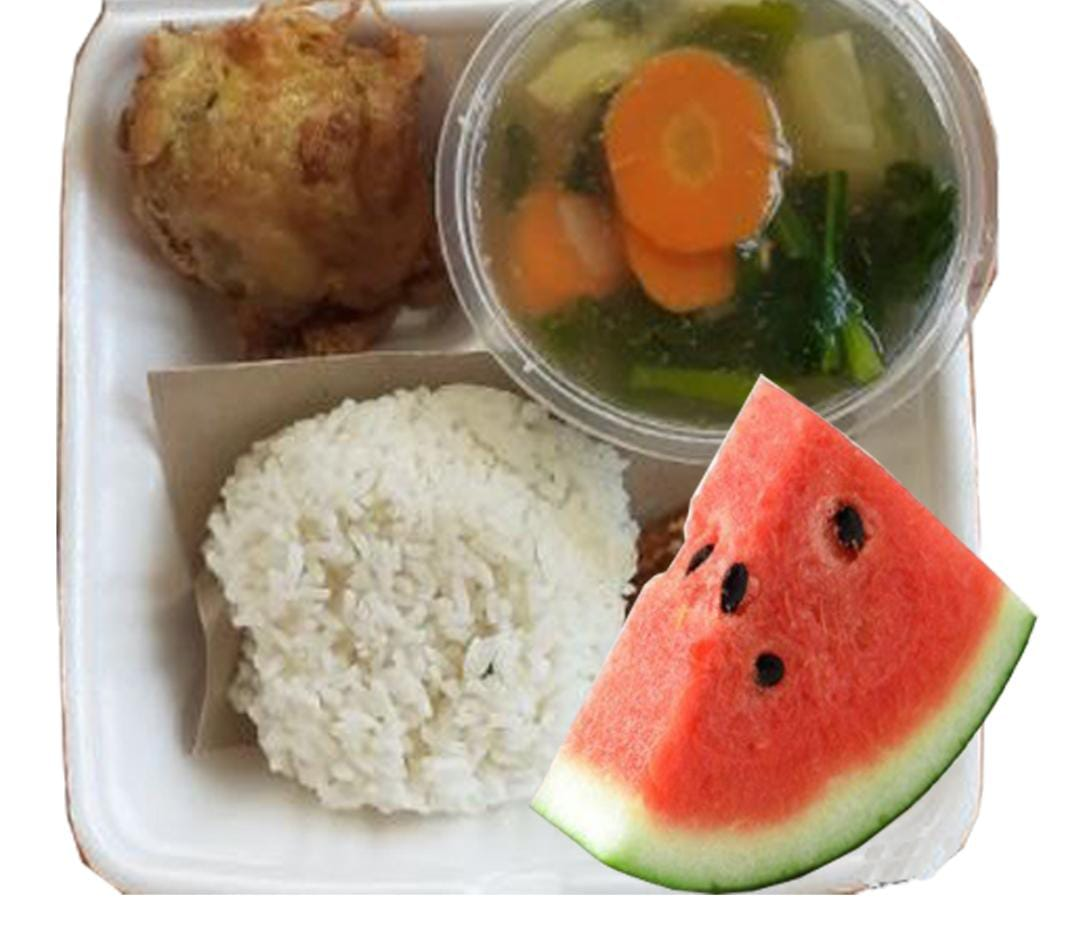buah_sayur_lainnya: (768, 238, 903, 349)
buah_sayur_vitA: (683, 476, 933, 799), (620, 93, 748, 216)
daging: (155, 58, 396, 288)
makanan_berpati: (283, 461, 522, 755)
